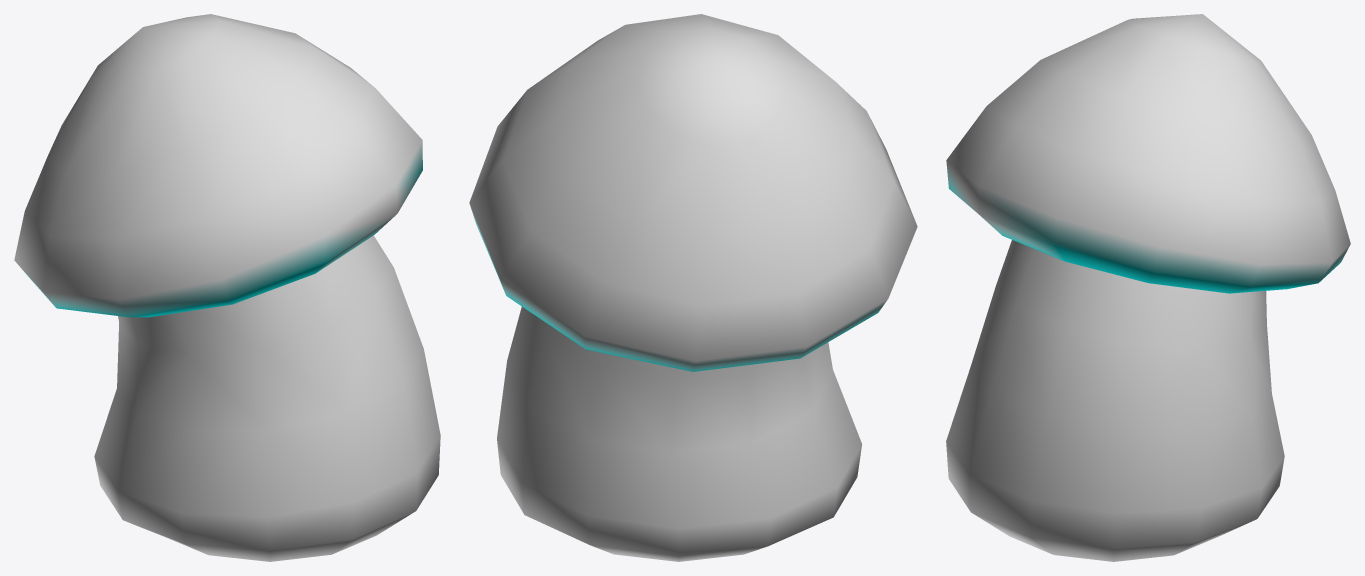
The model's file is obstacle-small_mushroom_H1.glb.
3 views of the same model, side by side, from view 1: azimuth 30°, elevation 25°; view 2: azimuth 150°, elevation 25°; view 3: azimuth 270°, elevation 25° (orthographic). The views are drawn at different scales.
Parts seen in each view (by area): view 1: obstacle-small_mushroom_H1; view 2: obstacle-small_mushroom_H1; view 3: obstacle-small_mushroom_H1.
Part boxes in pixels (x1=…): obstacle-small_mushroom_H1: x1=14, y1=14, x2=440, y2=561; obstacle-small_mushroom_H1: x1=469, y1=14, x2=917, y2=561; obstacle-small_mushroom_H1: x1=946, y1=14, x2=1350, y2=561.
Size of the model in its own units: 1.73 by 2.17 by 1.72.
